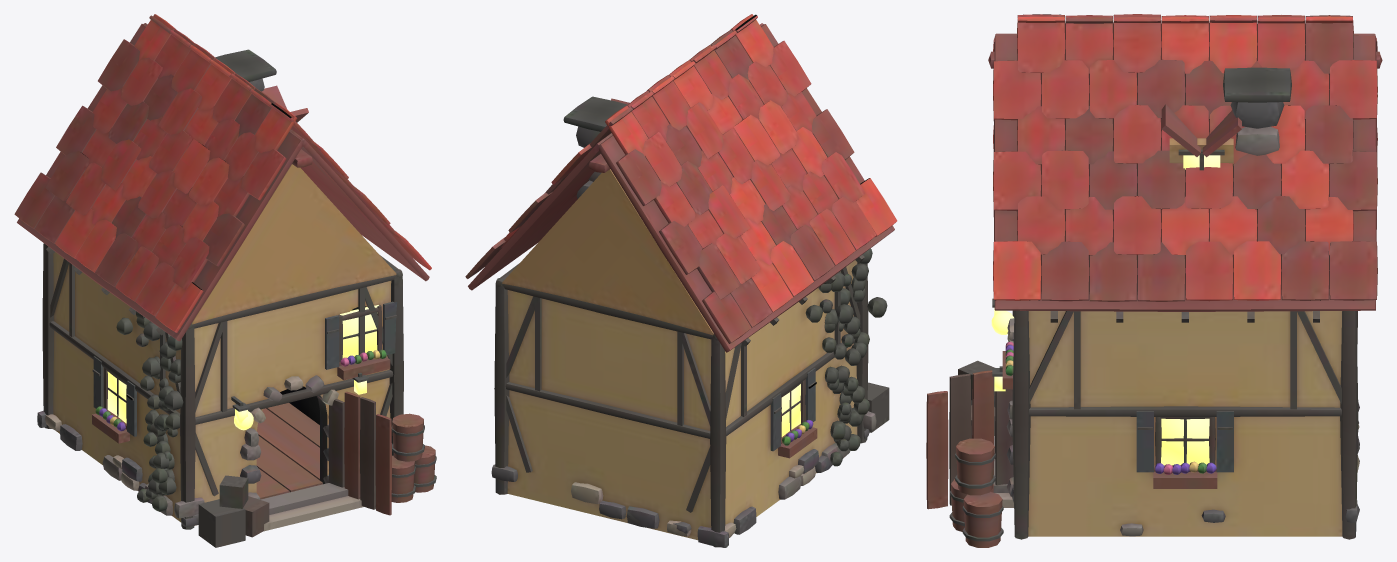
File: house_a.glb
3 renders of one model, left to right at view 1: azimuth 30°, elevation 25°; view 2: azimuth 150°, elevation 25°; view 3: azimuth 270°, elevation 25°, orthographic. The views are drawn at different scales.
Visible parts, largest first — view 1: main, glow; view 2: main, glow; view 3: main, glow.
Boxes of the visible parts, x1,y1,x2,y2 form: main: [14, 14, 436, 547]; glow: [107, 305, 378, 430]; main: [465, 14, 897, 547]; glow: [781, 384, 800, 436]; main: [926, 14, 1382, 547]; glow: [991, 155, 1220, 465].
Size of the model in its own units: 6.93 by 9.98 by 8.91.
2 materials, 1 textured.
